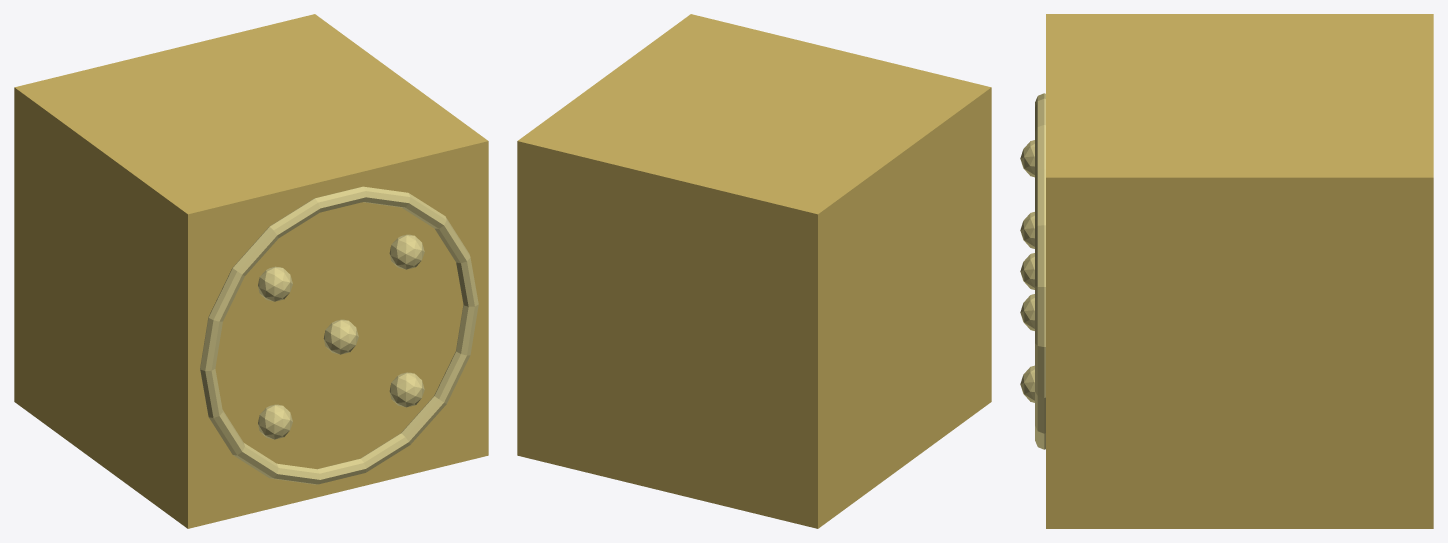
Rendered from geld.glb.
The picture shows the model from 3 angles, left to right: view 1: azimuth 30°, elevation 25°; view 2: azimuth 150°, elevation 25°; view 3: azimuth 270°, elevation 25°; orthographic projection. The views are drawn at different scales.
Visible parts, largest first — view 1: world; view 2: world; view 3: world.
Boxes of the visible parts, left/top/right/bottom form: world: left=14, top=14, right=488, bottom=528; world: left=517, top=14, right=991, bottom=528; world: left=1020, top=14, right=1433, bottom=528.
Size of the model in its own units: 1.05 by 1.05 by 1.12.
